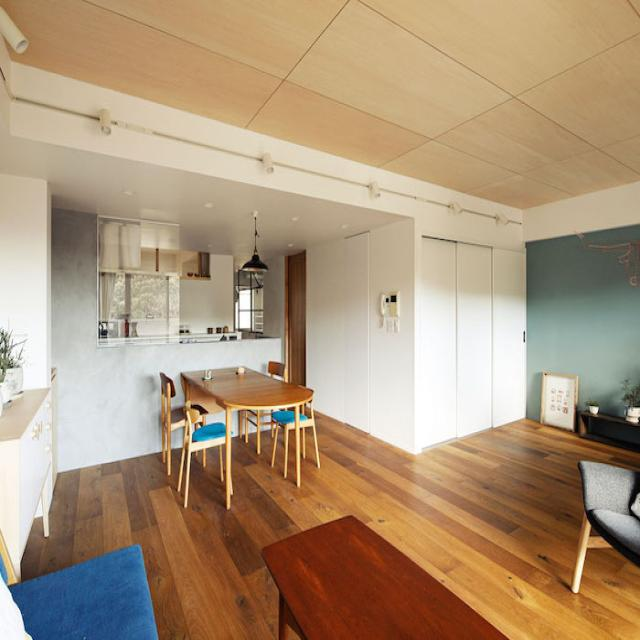natural chair: (180, 401, 230, 511), (157, 367, 186, 471)
natural desk: (253, 517, 514, 640), (180, 361, 315, 512)
